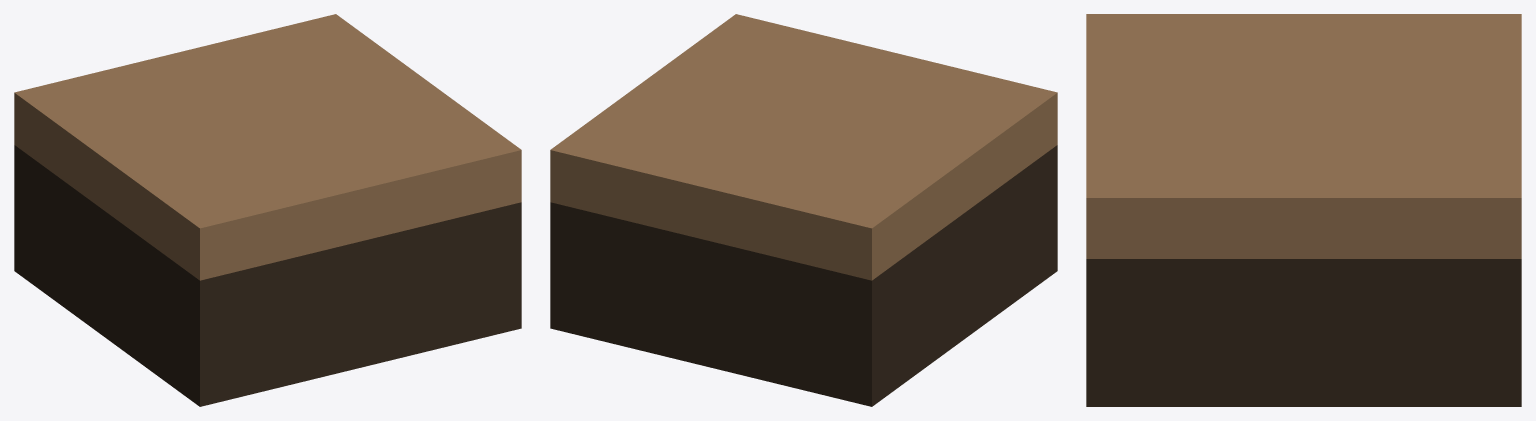
File: block_placeable.fbx
3 renders of one model, left to right at view 1: azimuth 30°, elevation 25°; view 2: azimuth 150°, elevation 25°; view 3: azimuth 270°, elevation 25°, orthographic. The views are drawn at different scales.
Visible parts, largest first — view 1: Block Placeable; view 2: Block Placeable; view 3: Block Placeable.
Boxes of the visible parts, x1,y1,x2,y2 form: Block Placeable: (14, 14, 521, 406); Block Placeable: (550, 14, 1057, 406); Block Placeable: (1086, 14, 1521, 406).
Bounding box in the file's own units: 1000 × 530 × 1000.
